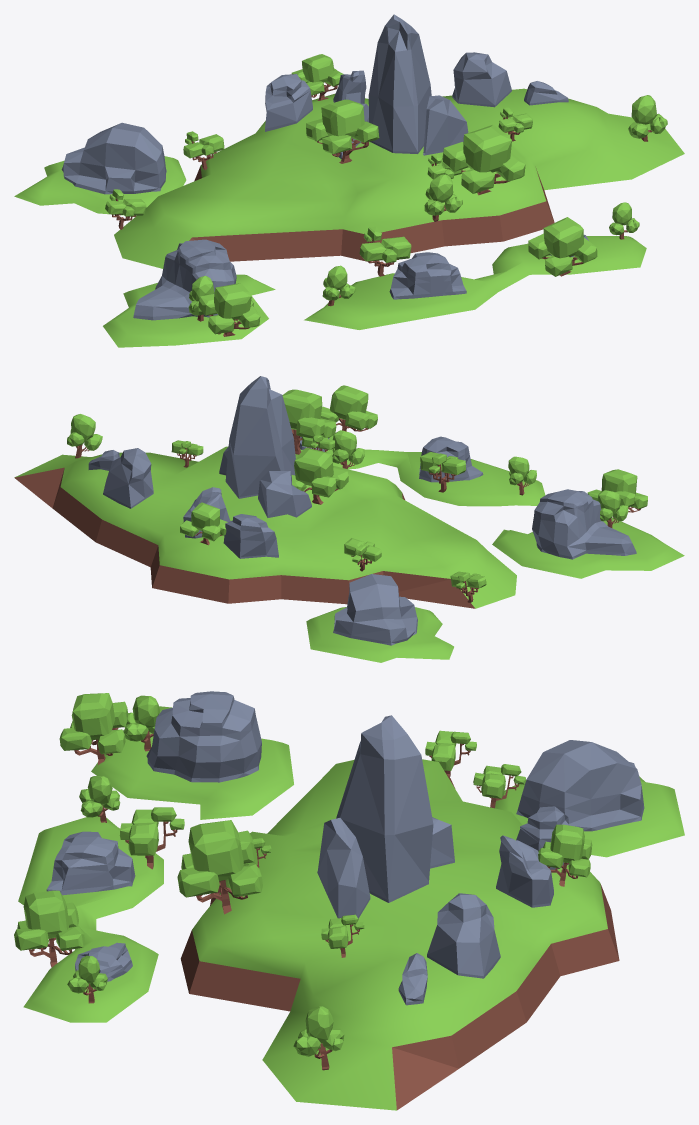
Rendered from geostructures_no8.fbx.
3 renders of one model, top to bottom at view 1: azimuth 30°, elevation 25°; view 2: azimuth 150°, elevation 25°; view 3: azimuth 270°, elevation 25°, orthographic. The views are drawn at different scales.
Visible parts, largest first — view 1: landform_08shrubbed:geology, landform_08shrubbed:shrubs; view 2: landform_08shrubbed:geology, landform_08shrubbed:shrubs; view 3: landform_08shrubbed:geology, landform_08shrubbed:shrubs.
Boxes of the visible parts, x1=… form: landform_08shrubbed:geology: x1=14, y1=14, x2=684, y2=347; landform_08shrubbed:shrubs: x1=105, y1=54, x2=667, y2=336; landform_08shrubbed:geology: x1=14, y1=376, x2=684, y2=662; landform_08shrubbed:shrubs: x1=67, y1=385, x2=647, y2=602; landform_08shrubbed:geology: x1=18, y1=691, x2=684, y2=1110; landform_08shrubbed:shrubs: x1=14, y1=693, x2=592, y2=1070.
Bounding box in the file's own units: 30104 × 7874 × 21185.
